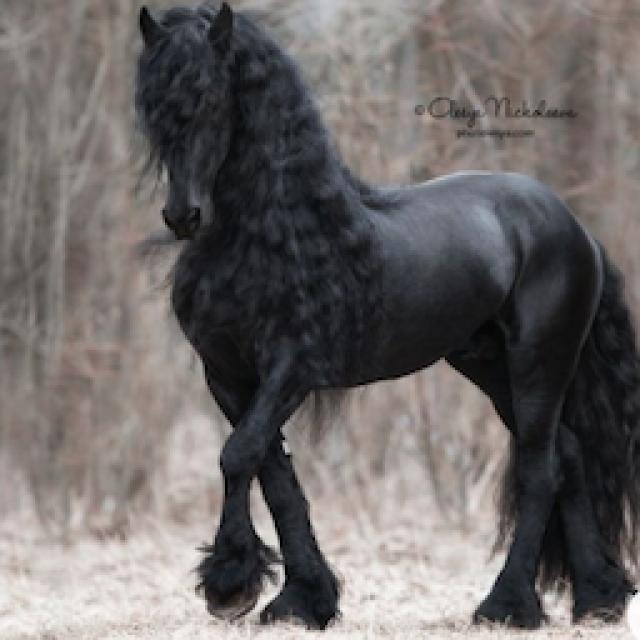Horse: (122, 0, 637, 632)
